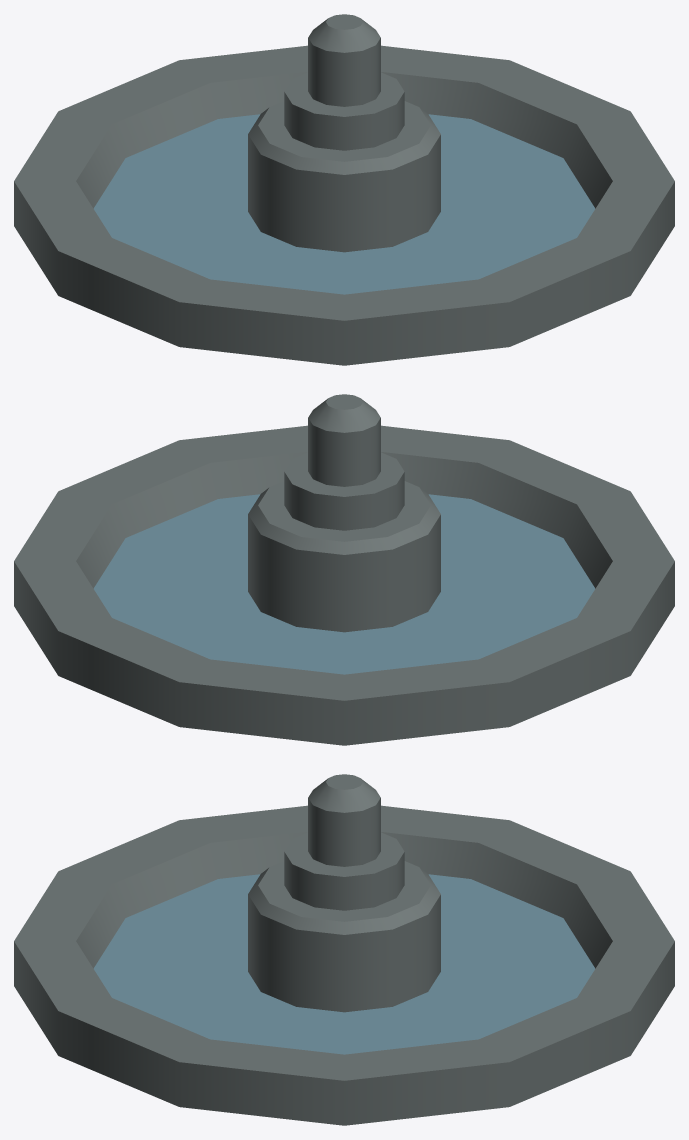
Rendered from SM_fontaine.fbx.
3 renders of one model, top to bottom at view 1: azimuth 30°, elevation 25°; view 2: azimuth 150°, elevation 25°; view 3: azimuth 270°, elevation 25°, orthographic.
Parts seen in each view (by area): view 1: SM_fontaine; view 2: SM_fontaine; view 3: SM_fontaine.
Part boxes in pixels (bbox=[...]): SM_fontaine: bbox=[14, 14, 674, 365]; SM_fontaine: bbox=[14, 394, 674, 745]; SM_fontaine: bbox=[14, 774, 674, 1125].
Bounding box in the file's own units: 439 × 149 × 439.
